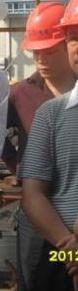hard-hat: (0, 0, 39, 30)
